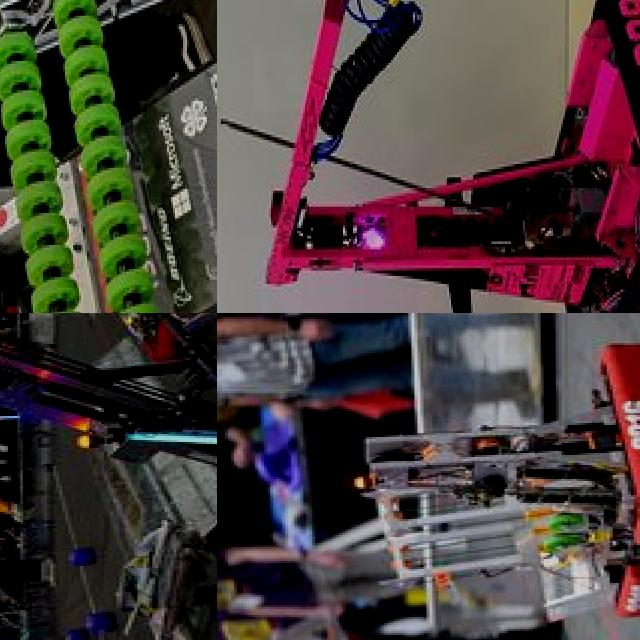FRC-Robots: (232, 0, 640, 313), (323, 326, 640, 633), (0, 0, 217, 313), (0, 313, 217, 564), (0, 313, 210, 398)
